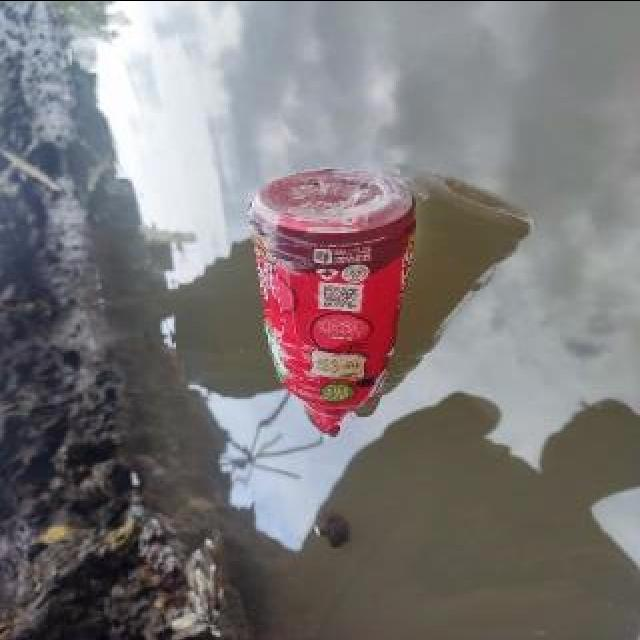Bottle: (241, 158, 423, 458)
